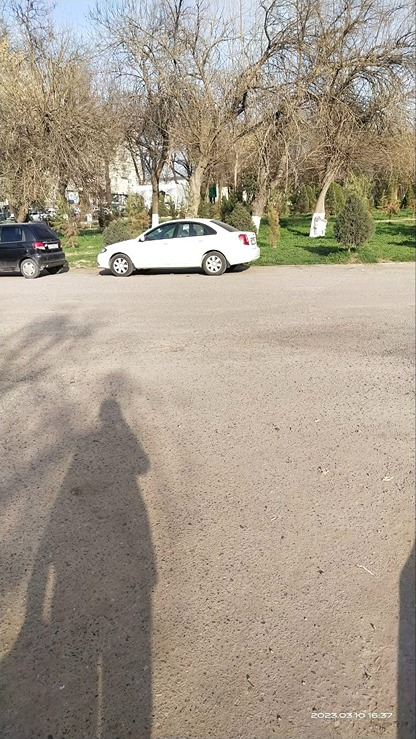car: (89, 214, 261, 279), (0, 213, 81, 284)
tree: (171, 0, 303, 201), (306, 0, 416, 225), (117, 0, 187, 208), (244, 45, 306, 225)
